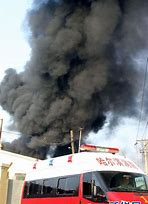smoke: (1, 1, 148, 147)
